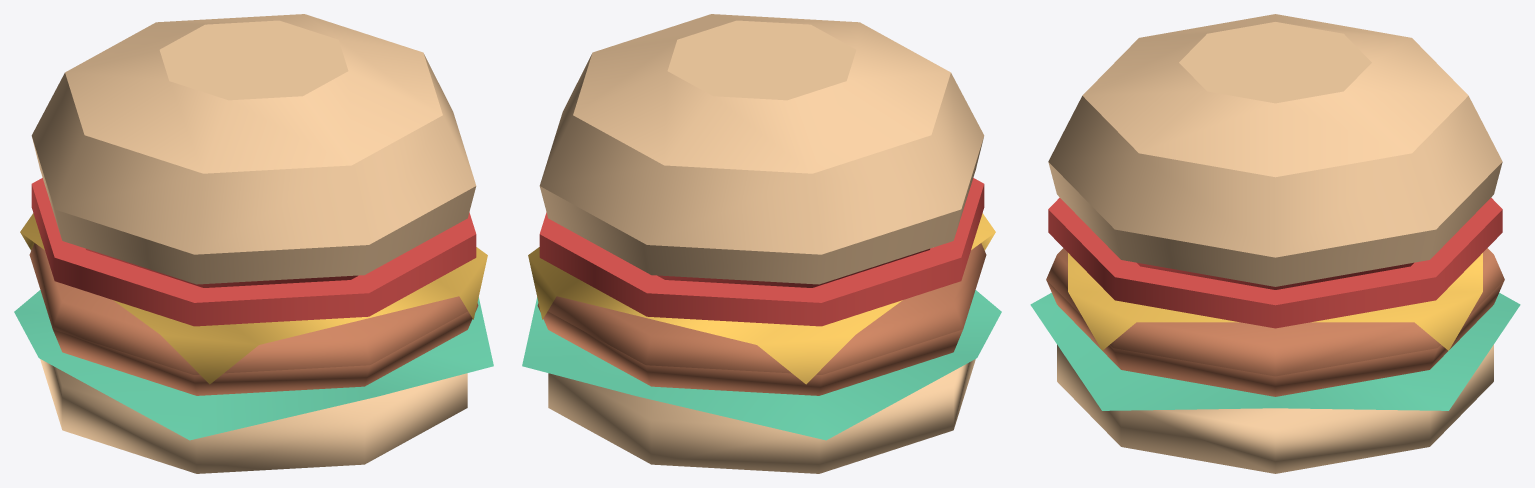
The model's file is Burger.glb.
3 renders of one model, left to right at view 1: azimuth 30°, elevation 25°; view 2: azimuth 150°, elevation 25°; view 3: azimuth 270°, elevation 25°, orthographic.
Parts seen in each view (by area): view 1: burger; view 2: burger; view 3: burger.
Boxes of the visible parts, <box> form: burger: <box>14,14,493,473</box>; burger: <box>522,14,1001,473</box>; burger: <box>1030,14,1520,473</box>.
Size of the model in its own units: 0.4041 by 0.29 by 0.4041.
